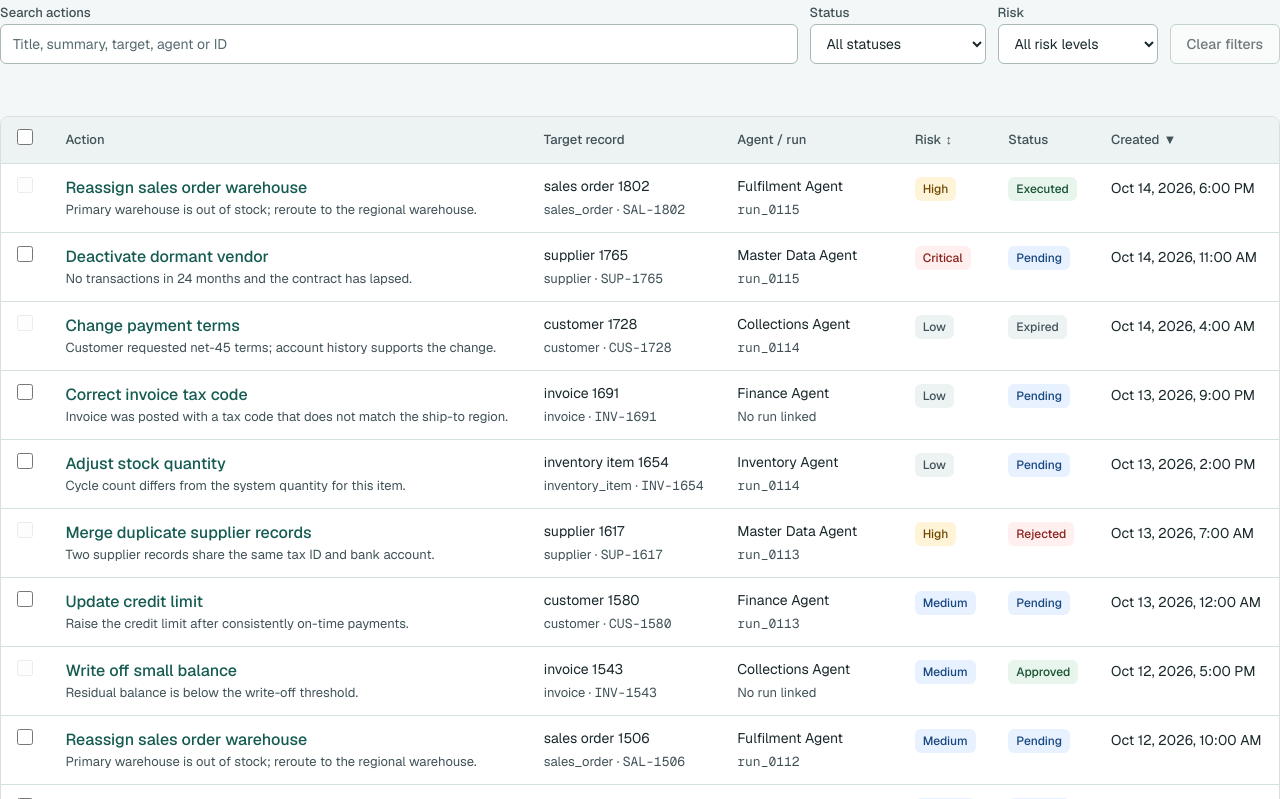
Test case: PendingActionsQueue › clears the selection on request and never enables bulk decisions
What coordinates should you click on to do the following:
click the checkbox named "Select all pending actions on this page"
I would click on:
 (25, 137)
Its box is [17, 129, 33, 145].
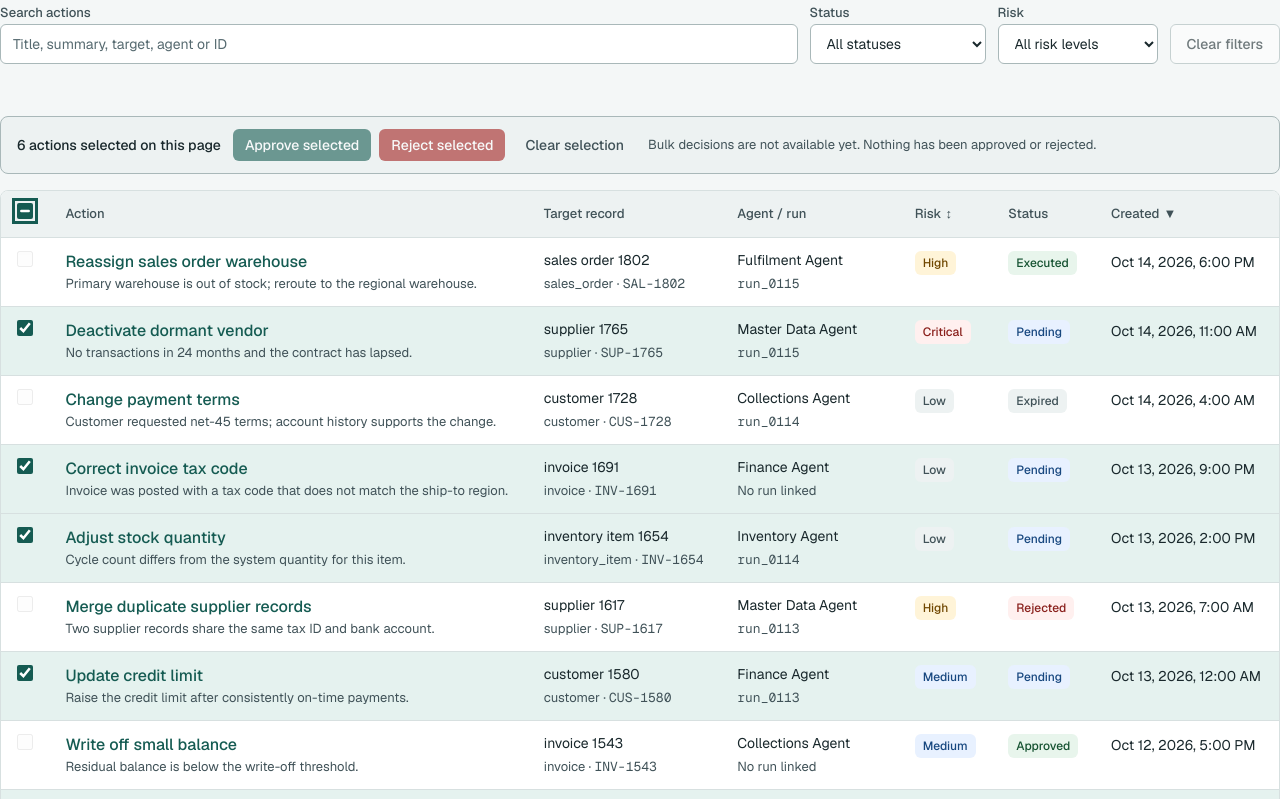
Expected: the text "6 actions selected on this page" is shown, [17, 135, 221, 155]
Expected: the button "Approve selected" is disabled, [233, 129, 371, 161]
What coordinates should you click on to do the following:
click the button "Clear selection"
I would click on:
 (575, 145)
Its box is [513, 129, 636, 161].
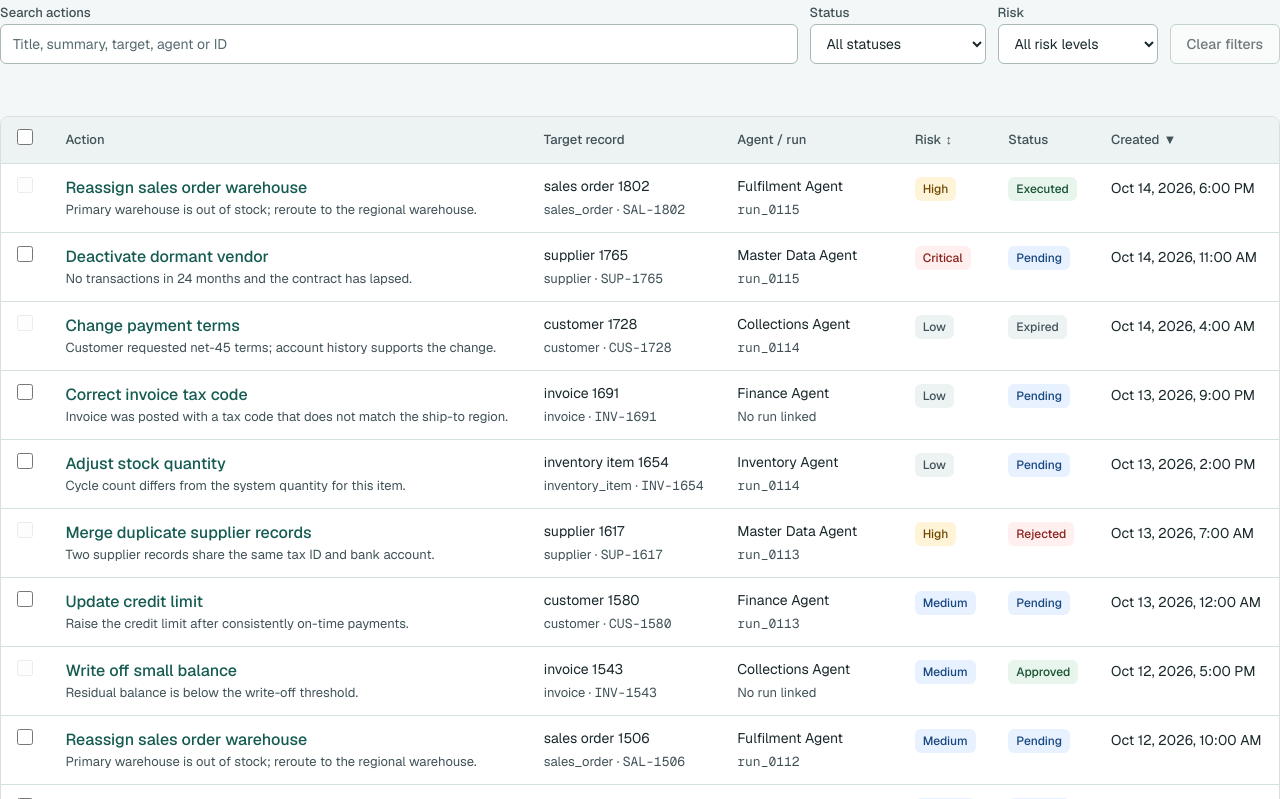
Expected: the text "selected on this page" is gone
